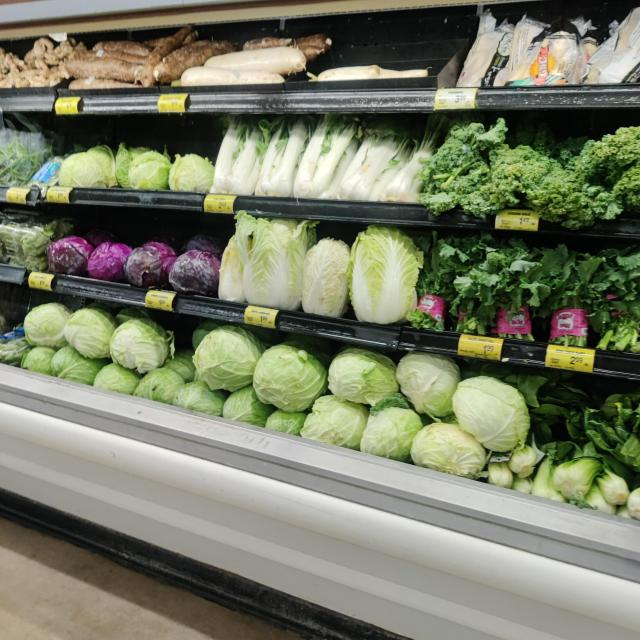Cabbage: (453, 376, 531, 452), (254, 341, 328, 412), (194, 325, 263, 391), (412, 422, 486, 478), (397, 352, 461, 416), (327, 348, 400, 404), (360, 406, 424, 464)
Lettuce: (349, 228, 416, 324), (302, 240, 350, 318), (218, 231, 245, 303), (59, 153, 110, 191), (127, 151, 171, 191), (169, 154, 214, 193)
